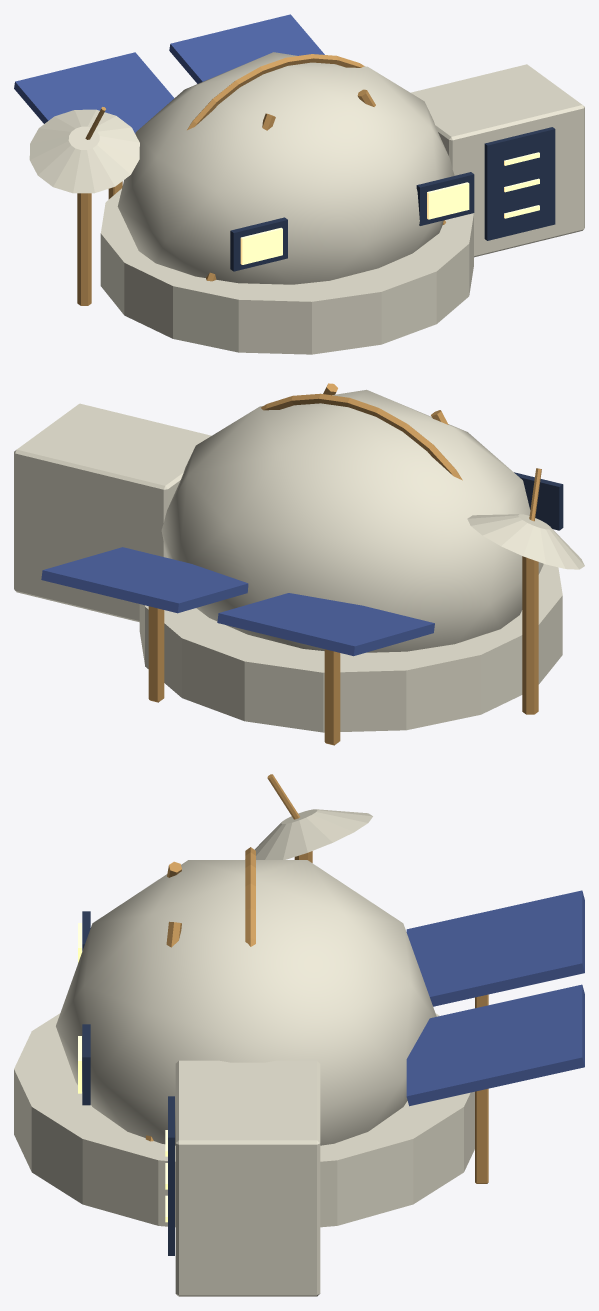
Rendered from lunar_base_v2.glb.
The picture shows the model from 3 angles, top to bottom: view 1: azimuth 30°, elevation 25°; view 2: azimuth 150°, elevation 25°; view 3: azimuth 270°, elevation 25°; orthographic projection. The views are drawn at different scales.
Parts seen in each view (by area): view 1: lunar_base_v2__orbit-ivory, lunar_base_v2__orbit-solar-cobalt, lunar_base_v2__orbit-server-navy, lunar_base_v2__orbit-copper, lunar_base_v2__orbit-window-emissive; view 2: lunar_base_v2__orbit-ivory, lunar_base_v2__orbit-solar-cobalt, lunar_base_v2__orbit-copper, lunar_base_v2__orbit-server-navy; view 3: lunar_base_v2__orbit-ivory, lunar_base_v2__orbit-solar-cobalt, lunar_base_v2__orbit-copper, lunar_base_v2__orbit-server-navy.
Part boxes in pixels (x1,y1,x2,y2): lunar_base_v2__orbit-ivory: (29,52,584,354); lunar_base_v2__orbit-solar-cobalt: (14,14,324,133); lunar_base_v2__orbit-server-navy: (230,127,555,271); lunar_base_v2__orbit-copper: (77,54,445,305); lunar_base_v2__orbit-window-emissive: (240,152,539,264); lunar_base_v2__orbit-ivory: (14,389,584,732); lunar_base_v2__orbit-solar-cobalt: (41,547,434,656); lunar_base_v2__orbit-copper: (148,383,541,745); lunar_base_v2__orbit-server-navy: (514,472,563,530); lunar_base_v2__orbit-ivory: (14,809,474,1296); lunar_base_v2__orbit-solar-cobalt: (406,890,584,1106); lunar_base_v2__orbit-copper: (145,774,488,1183); lunar_base_v2__orbit-server-navy: (82,911,174,1255).
Bounding box in the file's own units: 48.8 × 26.01 × 39.21.
